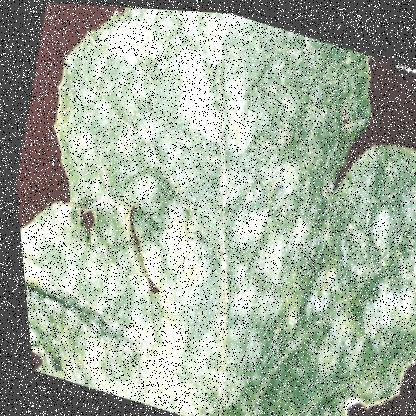PowderyMildew: (174, 52, 328, 274), (81, 22, 225, 197), (138, 266, 294, 415)
